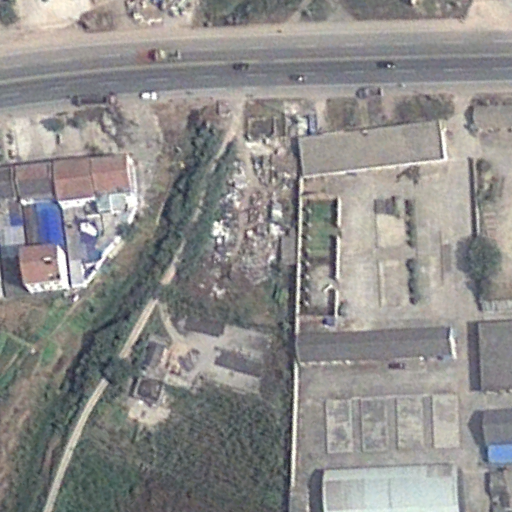msw: (206, 155, 284, 267)
